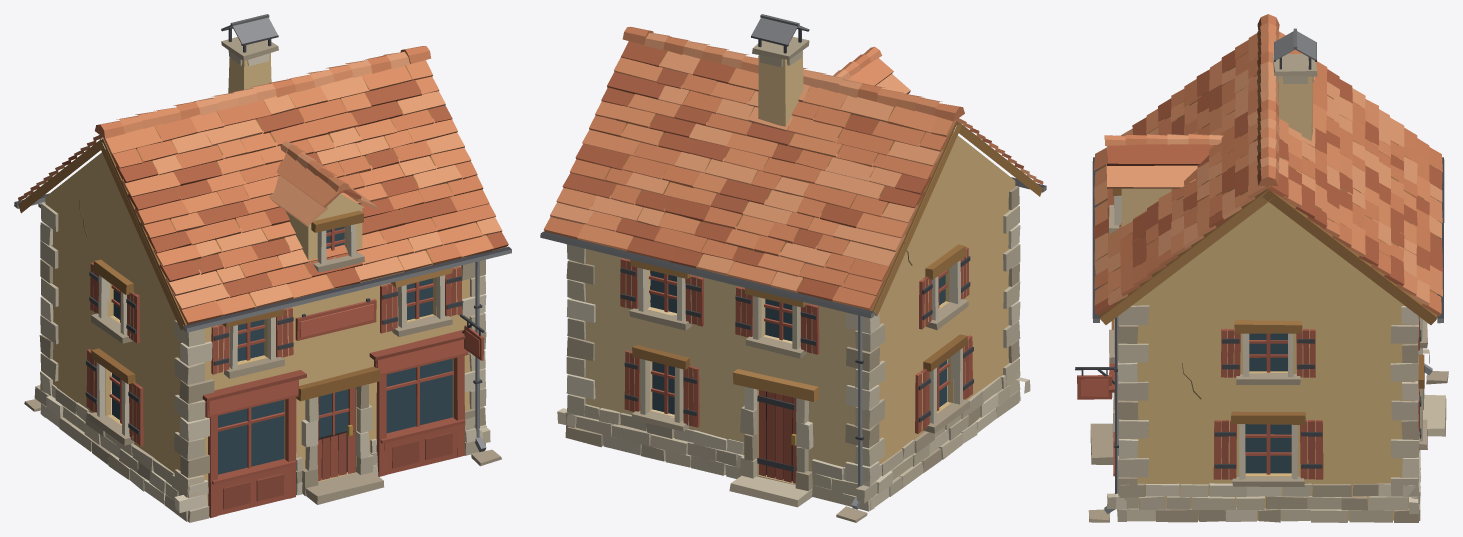
File: cafe.glb
3 views of the same model, side by side, from view 1: azimuth 30°, elevation 25°; view 2: azimuth 150°, elevation 25°; view 3: azimuth 270°, elevation 25° (orthographic).
Parts seen in each view (by area): view 1: cafe; view 2: cafe; view 3: cafe.
Part boxes in pixels (left/top/right/bottom): cafe: left=14, top=14, right=511, bottom=522; cafe: left=540, top=14, right=1046, bottom=522; cafe: left=1075, top=14, right=1448, bottom=522.
Bounding box in the file's own units: 7.84 × 9.28 × 7.64.
